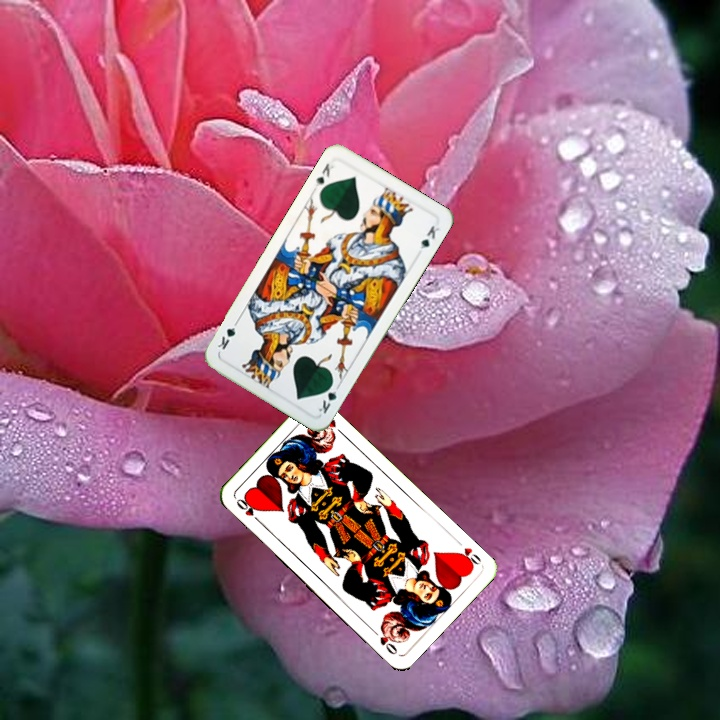GK: (314, 378, 343, 417), (310, 159, 337, 193)
HO: (452, 536, 484, 570), (232, 495, 264, 526)
